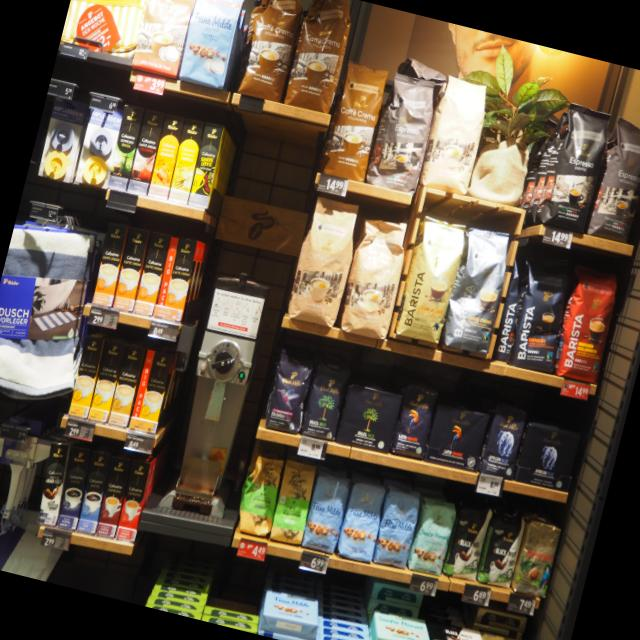AB Bohne: (474, 398, 530, 479)
AB Gemahlen: (512, 416, 585, 494)
Athiopien Bohne: (230, 450, 288, 540)
Athiopien Gemahlen: (263, 454, 322, 548)
BM Bohne: (296, 352, 354, 444)
BM Gemahlen: (333, 379, 402, 455)
BW Bohne: (440, 497, 496, 582), (473, 506, 528, 591)
BW Gemahlen: (425, 618, 482, 640)
Barista CB: (389, 212, 472, 352)
Barista CC: (436, 220, 518, 358)
Barista Espresso: (500, 251, 581, 377)
Barista Kolumbien: (546, 261, 626, 388)
C Fino Bohne: (258, 344, 320, 436)
CC Mild: (279, 192, 366, 335), (332, 210, 416, 342), (414, 72, 496, 199)
CC Vollmundig: (129, 0, 201, 82)
CC Vollmundig 36 Pads: (314, 59, 394, 186), (278, 0, 361, 119), (227, 0, 311, 105)
Colombia BB Bohne: (508, 510, 566, 601)
Empty Shelf: (317, 599, 376, 638), (204, 576, 264, 613), (151, 566, 210, 602)
Espresso Aromatisch: (362, 68, 444, 198)
FM 36 Pads: (174, 0, 250, 94)
FM Bohne: (331, 476, 391, 566), (298, 464, 356, 555), (368, 482, 426, 572)
LG Bohne: (386, 376, 444, 462)
LG Gemahlen: (422, 399, 491, 473)
SM Bohne: (403, 495, 460, 578)
SM Gemahlen: (261, 587, 318, 626), (373, 609, 430, 640)
Simo CC Colombia: (126, 108, 165, 196)
Simo CCMild: (128, 347, 174, 434)
Simo CCMild bigpack: (87, 338, 126, 424), (66, 333, 105, 418)
Simo CCVollmundig: (155, 235, 198, 322)
Simo CCVollmundig bigpack: (132, 229, 172, 316), (112, 225, 151, 313), (91, 221, 128, 307)
Simo Decaff: (108, 343, 145, 427)
Simo Es Brazil: (106, 103, 145, 191)
Simo Es Caramel: (146, 112, 185, 201)
Simo Es Elegant: (115, 457, 151, 542)
Simo Es Kraft: (95, 453, 131, 538)
Simo Es Vanilla: (166, 122, 203, 211)
Simo Kaffee BW: (36, 442, 70, 525)
Simo Kaffee Kraft: (55, 444, 93, 531)
Simo Kaffee Mild: (76, 449, 112, 534)
Simo Sunrise: (187, 120, 225, 211)
